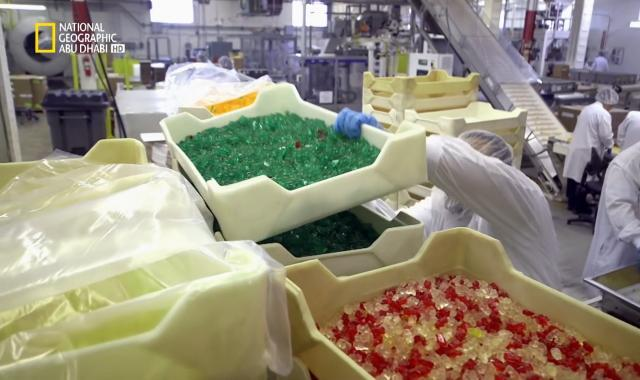Glove: (331, 108, 377, 140)
Hairnet: (458, 128, 518, 163)
No_Apron: (573, 102, 610, 179), (596, 86, 618, 105)
